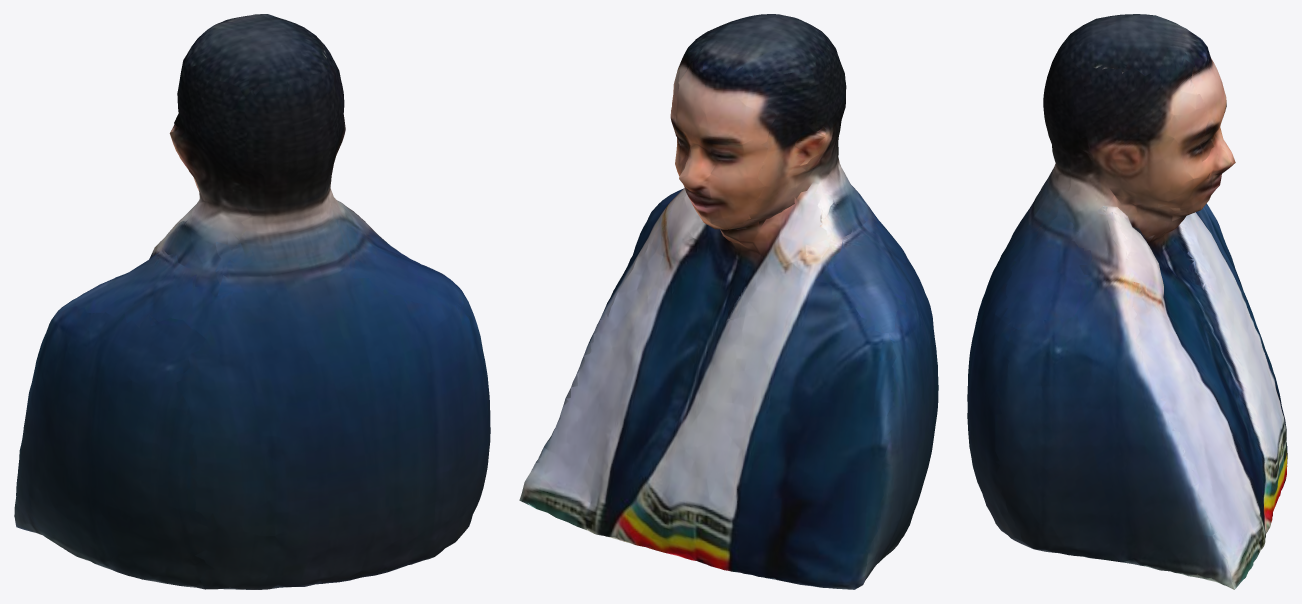
File: statue.glb
The picture shows the model from 3 angles, left to right: view 1: azimuth 30°, elevation 25°; view 2: azimuth 150°, elevation 25°; view 3: azimuth 270°, elevation 25°; orthographic projection. The views are drawn at different scales.
Parts seen in each view (by area): view 1: world; view 2: world; view 3: world.
Boxes of the visible parts, x1,y1,x2,y2 form: world: [14, 14, 490, 589]; world: [519, 14, 938, 589]; world: [967, 14, 1287, 589].
Bounding box in the file's own units: 0.7201 × 0.9024 × 0.5503.
Materials: 1 (1 with a texture image).
